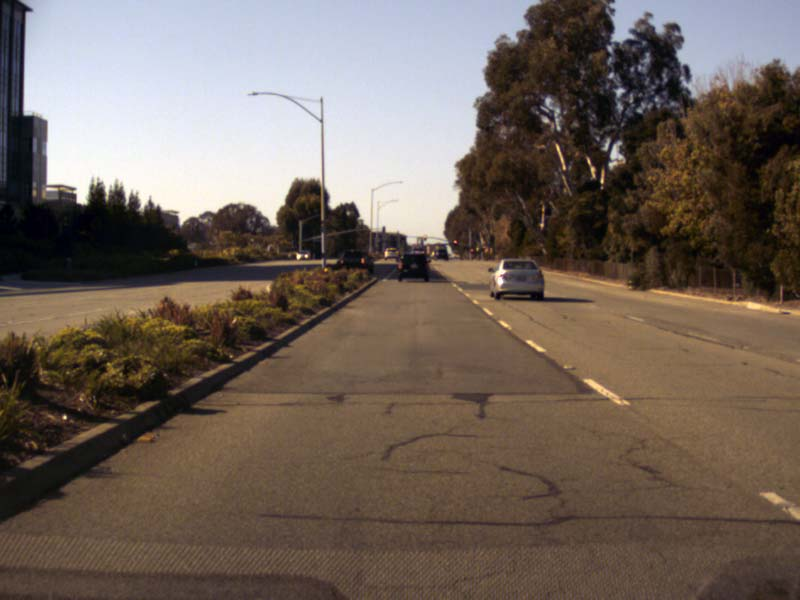Red: (453, 239, 457, 246), (423, 235, 426, 240)
